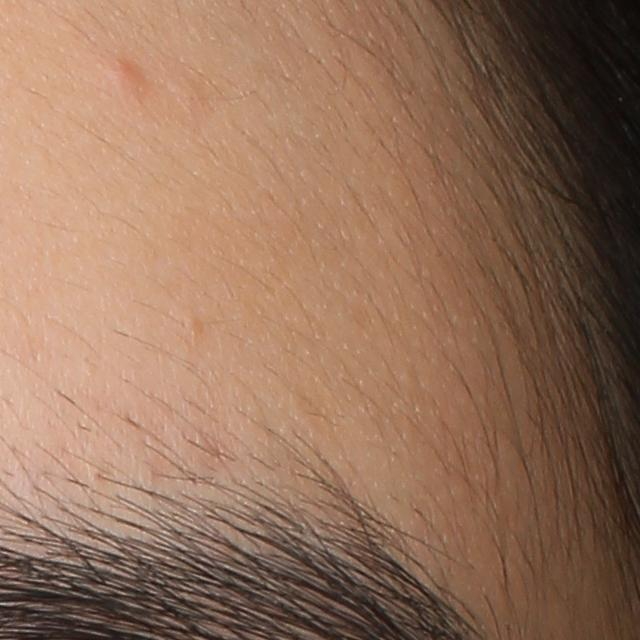comedo: (181, 313, 205, 336)
papule: (107, 56, 144, 91)
